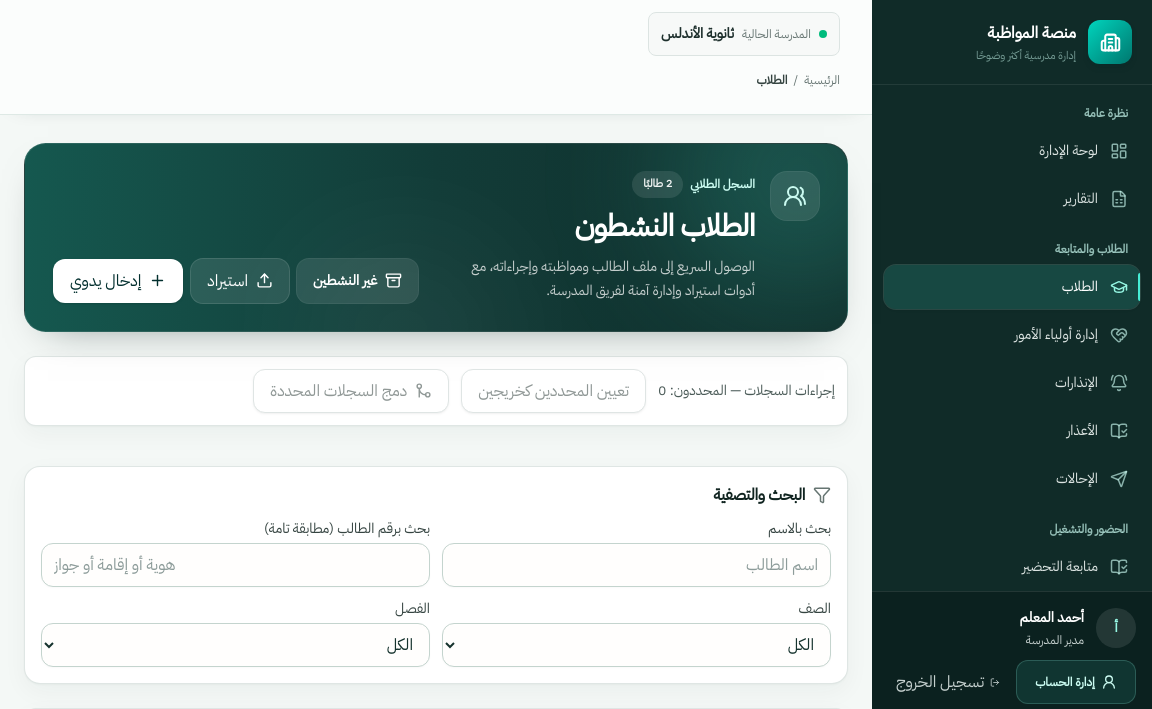
StudentsPage › adds a student manually from the directory
The image size is (1152, 709).
Step 1. Click the button "إدخال يدوي" → (118, 280), box [53,258,183,302]
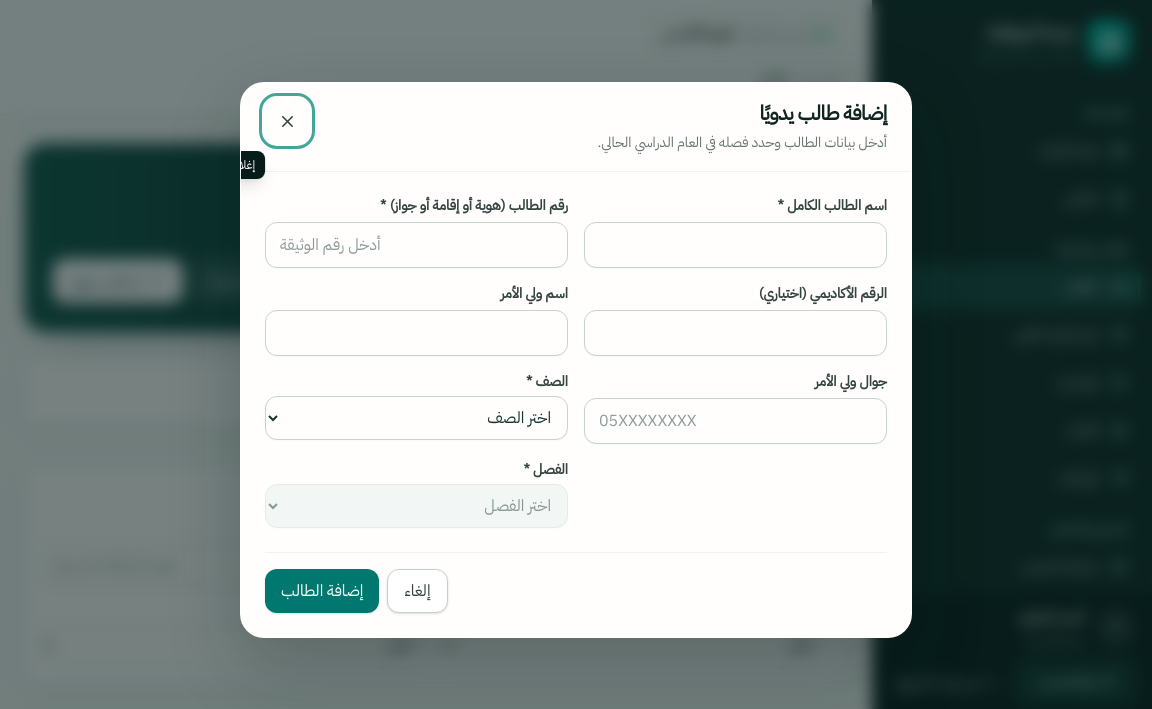
Step 2. Type "سالم اليدوي" into the field labelled "اسم الطالب الكامل *" → (736, 245), box [584,222,887,268]
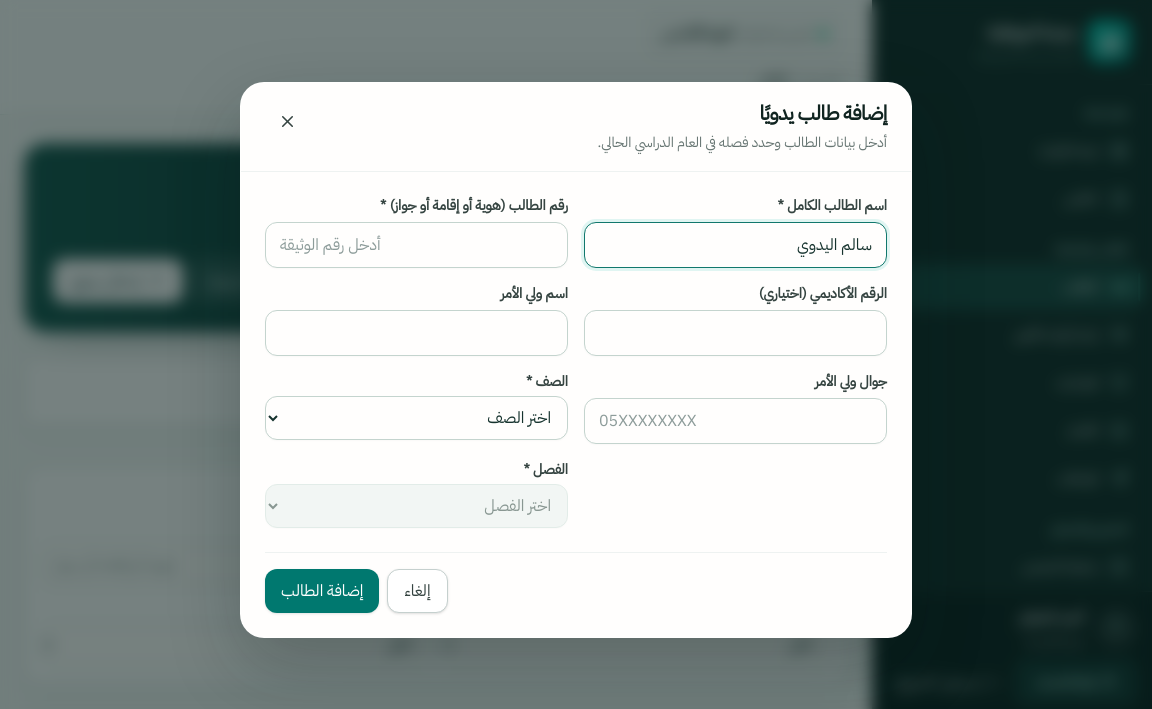
Step 3. Type "1098765432" into the field labelled "رقم الطالب (هوية أو إقامة أو جواز) *" → (416, 245), box [265,222,568,268]
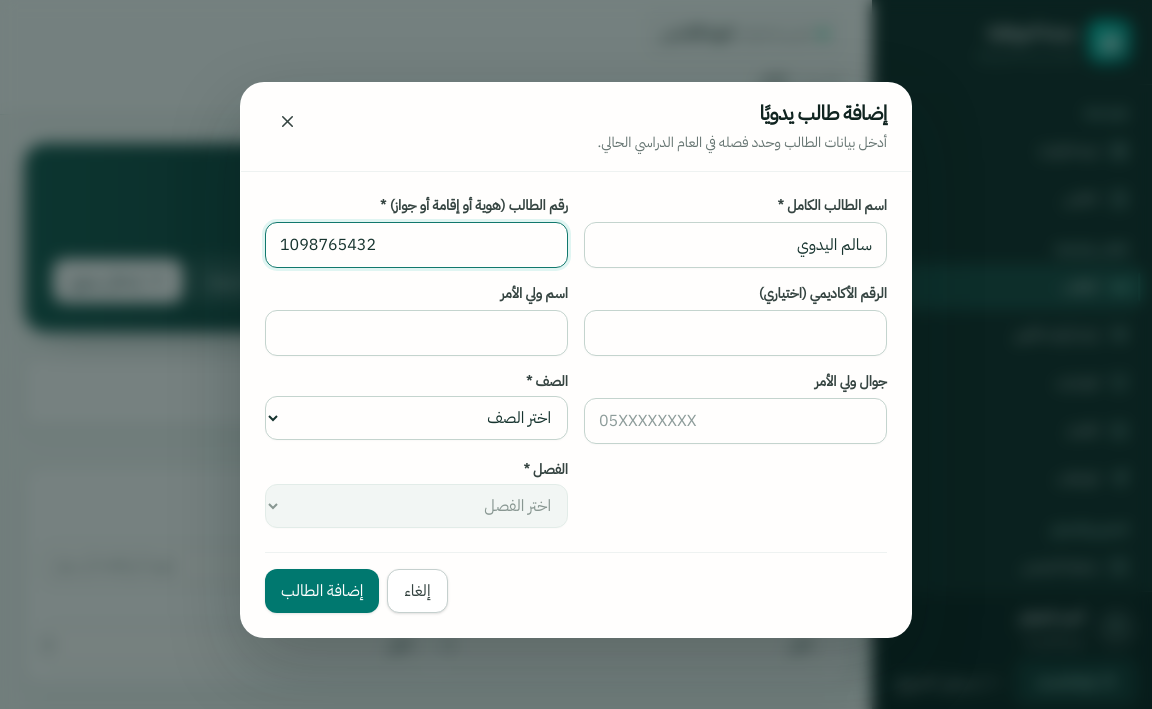
Step 4. Select "الأول الثانوي" in the dropdown labelled "الصف *" → (416, 418), box [265,396,568,440]
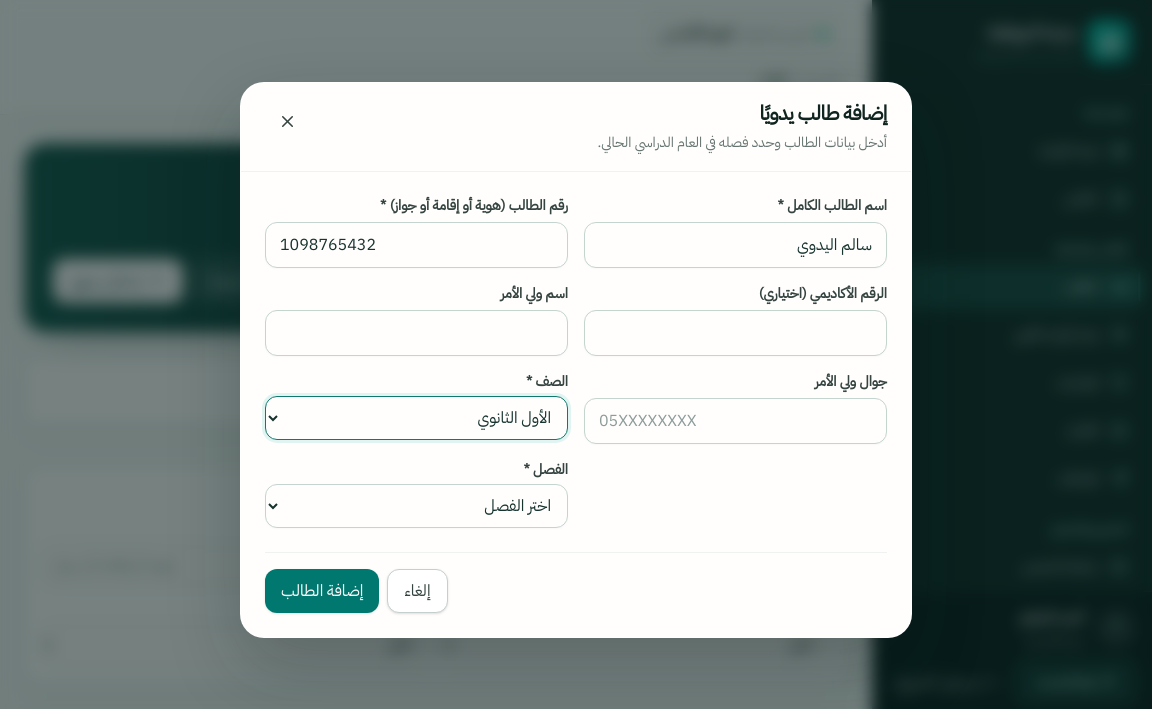
Step 5. Select "أ" in the dropdown labelled "الفصل *" → (416, 506), box [265,484,568,528]
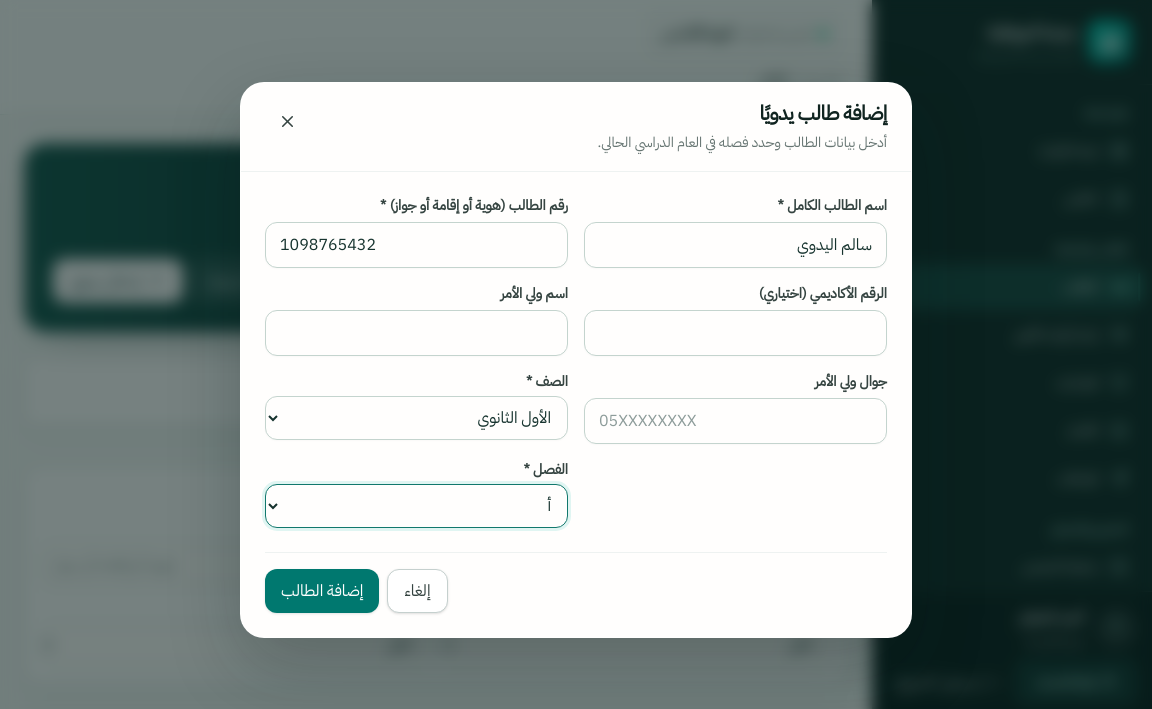
Step 6. Click the button "إضافة الطالب" → (322, 591), box [265,569,379,613]
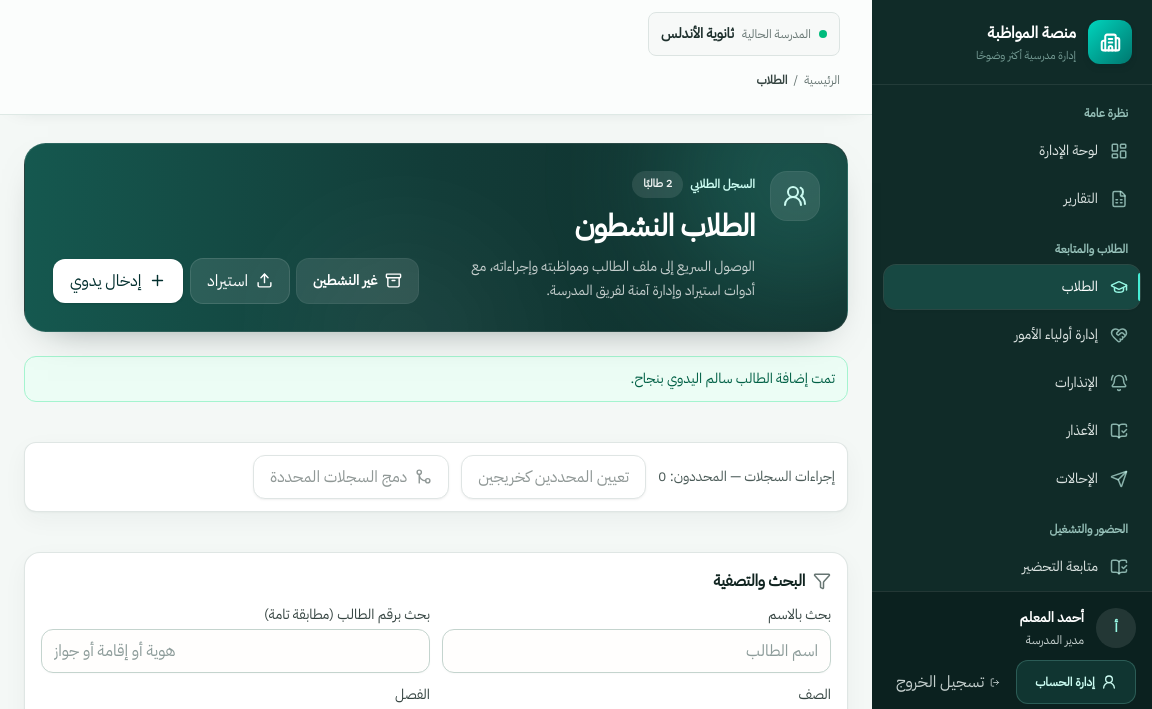
Expected: the text "تمت إضافة الطالب سالم اليدوي بنجاح." is shown, [24,356,848,402]
